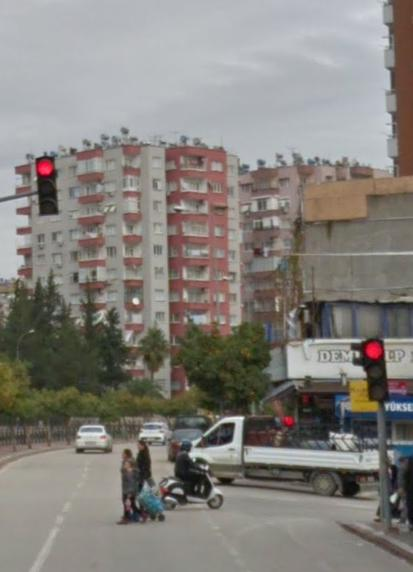redlight: (363, 340, 388, 399), (36, 152, 58, 217)
